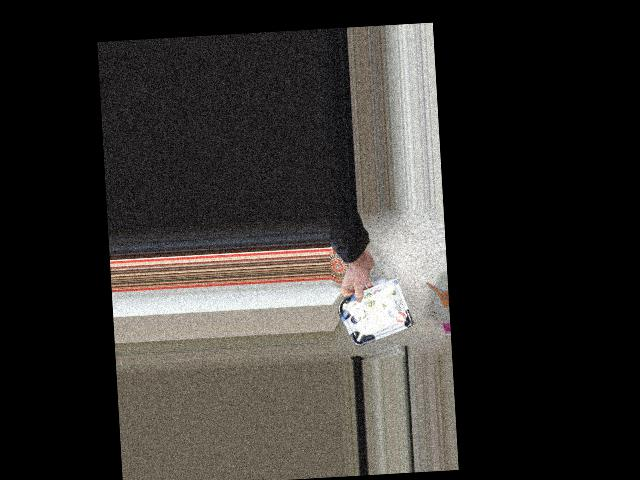cheese: (340, 290, 406, 339)
